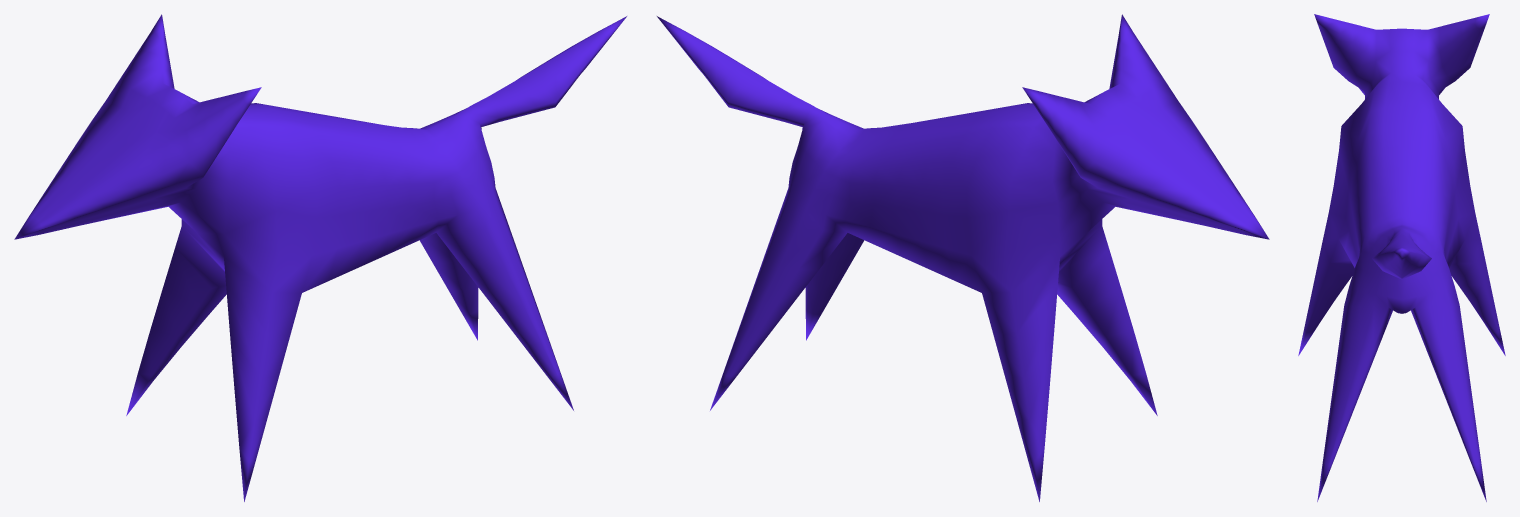
Rendered from wolf_test005.fbx.
3 renders of one model, left to right at view 1: azimuth 30°, elevation 25°; view 2: azimuth 150°, elevation 25°; view 3: azimuth 270°, elevation 25°, orthographic. The views are drawn at different scales.
Visible parts, largest first — view 1: wolf body; view 2: wolf body; view 3: wolf body.
Boxes of the visible parts, x1=… form: wolf body: x1=14, y1=14, x2=626, y2=501; wolf body: x1=657, y1=14, x2=1269, y2=501; wolf body: x1=1298, y1=14, x2=1505, y2=501.
Bounding box in the file's own units: 111 × 69.82 × 37.09.
